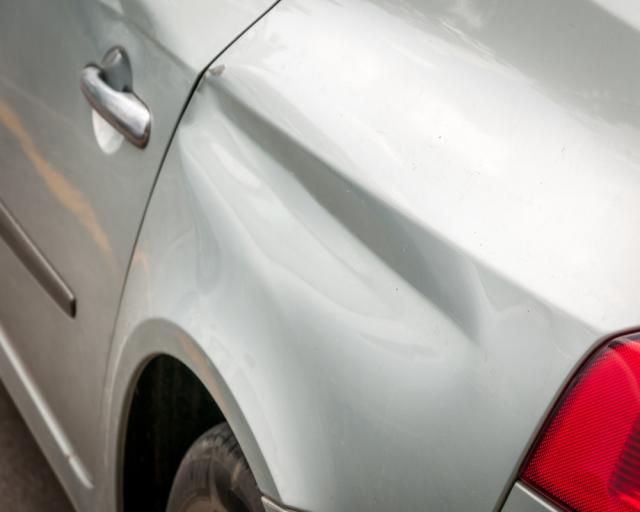dent: (178, 68, 470, 347)
